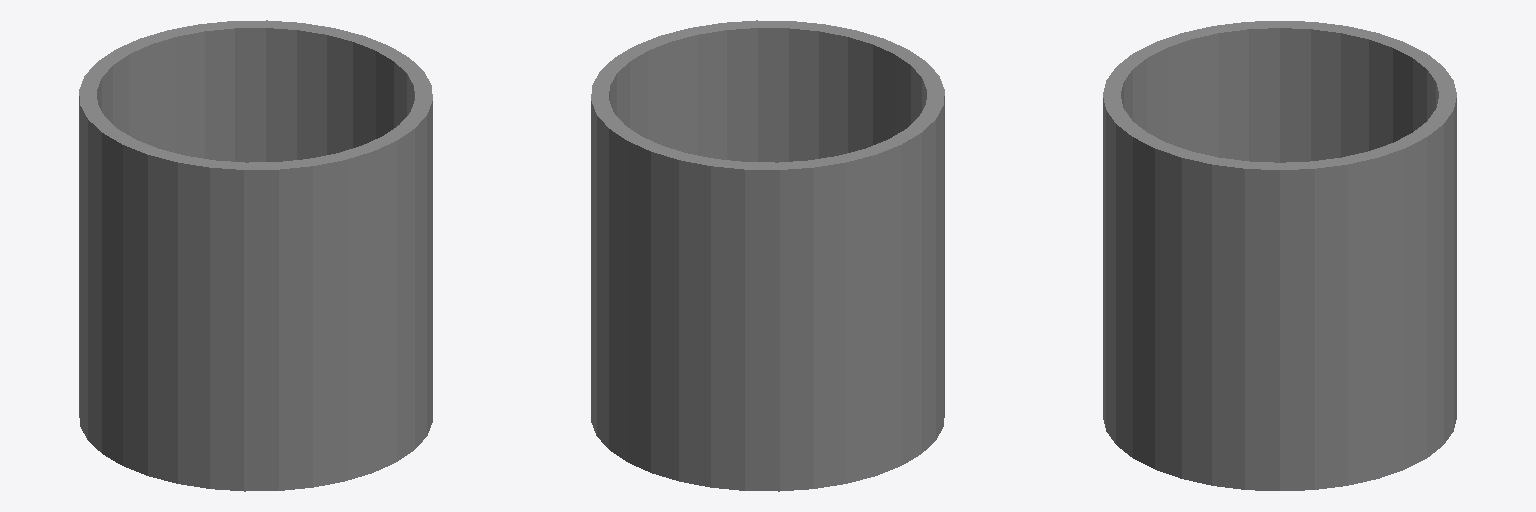
robot.urdf — cylinder:
<?xml version="1.0"?>
<robot name="cylinder">

  <link name="cylinder">
    <visual>
      <origin rpy="1.5708 0 0" xyz="0 0 0"/>
      <geometry>
        <mesh filename="meshes/cylinder2.obj"/>
      </geometry>
      <material name="gray">
        <color rgba="0.6 0.6 0.6 1"/>
      </material>
    </visual>

    <collision>
      <origin rpy="1.5708 0 0" xyz="0 0 0"/>
      <geometry>
        <mesh filename="meshes/vhacd_cylinder2.obj"/>
      </geometry>
    </collision>

    <inertial>
      <origin rpy="0 0 0" xyz="0 0 0"/>
      <mass value="1.0"/>
      <inertia ixx="0.001" iyy="0.001" izz="0.001"
               ixy="0" ixz="0" iyz="0"/>
    </inertial>
  </link>

</robot>

--- Render facts (derived) ---
The picture shows the robot from 3 angles, left to right: view 1: azimuth 30°, elevation 25°; view 2: azimuth 150°, elevation 25°; view 3: azimuth 270°, elevation 25°; orthographic projection.
Model cylinder with 1 links and 0 joints (none), rooted at cylinder, posed all joints at 0.
Links seen in each view (by area): view 1: cylinder; view 2: cylinder; view 3: cylinder.
Link boxes in pixels (x1,y1,x2,y2): cylinder: (79,20,432,491); cylinder: (591,20,944,491); cylinder: (1103,21,1456,490).
Size in the robot's own frame: 0.106 by 0.106 by 0.106 metres.
Meshes: 1 distinct files referenced, 1 mesh visuals loaded (1 OBJ).
